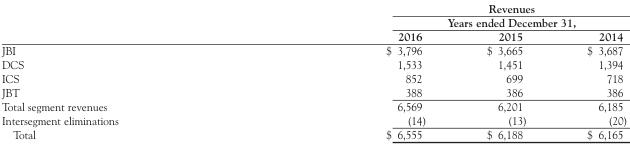table: (1, 1, 626, 140)
table column: (1, 1, 251, 140), (251, 1, 455, 140), (455, 1, 556, 140), (556, 1, 626, 140)
table column header: (1, 1, 626, 43)
table row: (1, 1, 626, 29), (1, 29, 626, 43), (1, 43, 626, 57), (1, 57, 626, 71), (1, 84, 626, 98), (1, 98, 626, 112), (1, 112, 626, 126), (1, 126, 626, 140), (1, 71, 626, 84)
table spanning cell: (251, 1, 626, 29)
